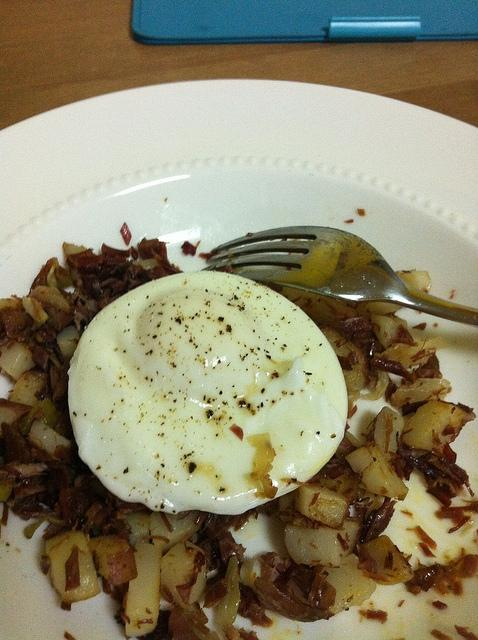potato: (313, 554, 376, 620), (401, 399, 477, 452), (46, 531, 100, 604), (318, 324, 370, 396), (124, 542, 161, 638), (160, 538, 207, 610), (365, 270, 431, 316), (356, 535, 414, 586), (88, 534, 138, 586), (294, 486, 351, 530), (149, 510, 203, 552), (360, 456, 408, 498), (27, 420, 72, 464), (374, 406, 404, 466), (390, 378, 445, 410), (8, 368, 48, 407), (20, 397, 58, 435), (0, 342, 36, 382), (370, 315, 408, 350), (310, 297, 348, 325), (0, 398, 33, 428), (127, 511, 150, 548), (35, 286, 69, 311), (22, 294, 48, 324), (57, 325, 80, 356), (12, 463, 48, 478), (62, 242, 89, 262), (335, 478, 359, 495), (133, 258, 159, 270)
